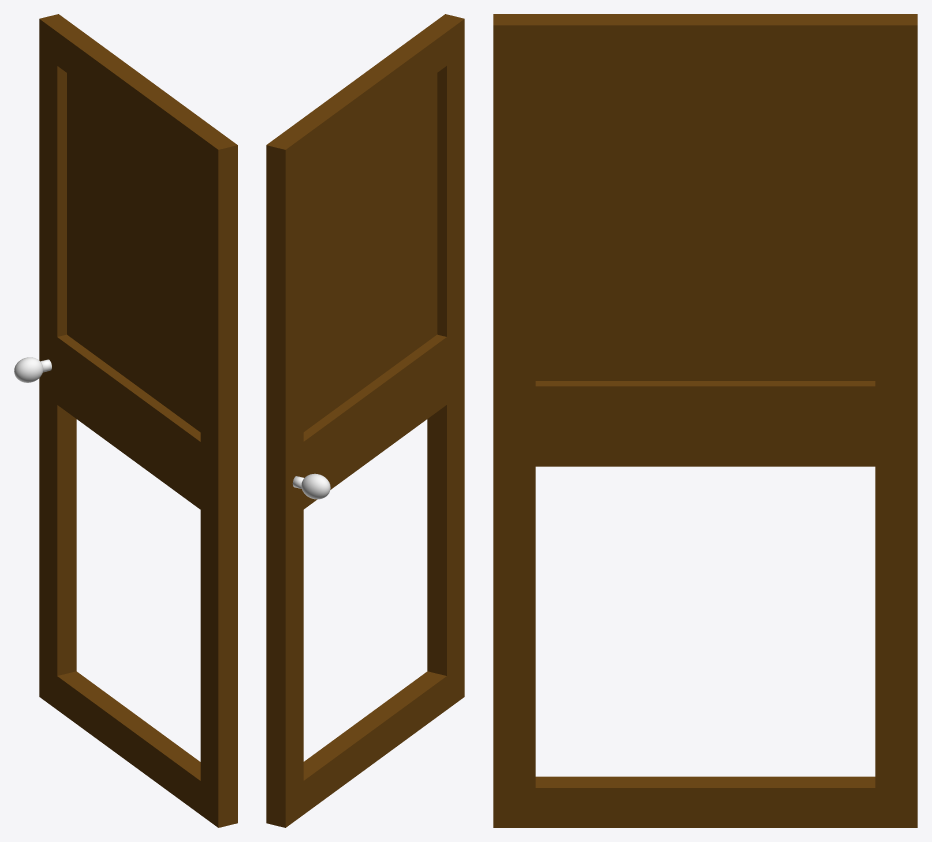
File: Door1HoleD.fbx
The picture shows the model from 3 angles, left to right: view 1: azimuth 30°, elevation 25°; view 2: azimuth 150°, elevation 25°; view 3: azimuth 270°, elevation 25°; orthographic projection. The views are drawn at different scales.
Parts seen in each view (by area): view 1: Door, DoorHandle; view 2: Door, DoorHandle; view 3: Door.
Boxes of the visible parts, left/top/right/bottom form: Door: left=39, top=14, right=237, bottom=827; DoorHandle: left=14, top=357, right=43, bottom=382; Door: left=266, top=14, right=464, bottom=827; DoorHandle: left=301, top=473, right=330, bottom=499; Door: left=493, top=14, right=917, bottom=827.
Size of the model in its own units: 219 by 2669 by 1278.
